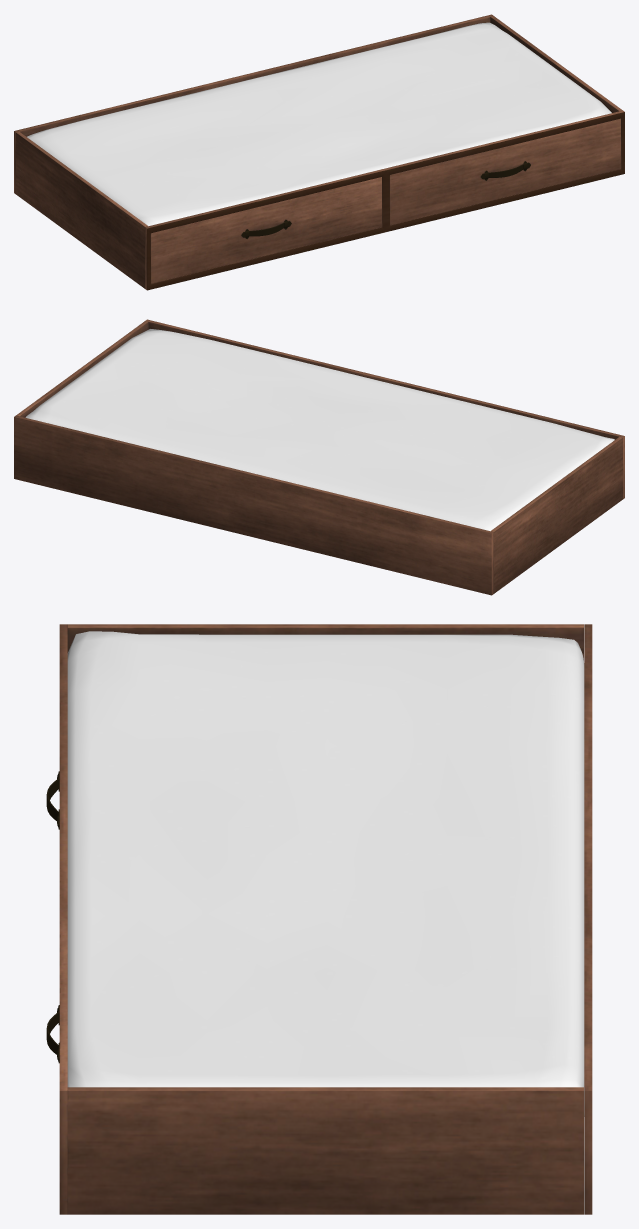
The picture shows the model from 3 angles, top to bottom: view 1: azimuth 30°, elevation 25°; view 2: azimuth 150°, elevation 25°; view 3: azimuth 270°, elevation 25°; orthographic projection. The views are drawn at different scales.
Visible parts, largest first — view 1: fabric, wood, metal; view 2: fabric, wood; view 3: fabric, wood.
Boxes of the visible parts, box(x1,y1,x2,y2) form: fabric: box(27, 22, 611, 226); wood: box(14, 14, 624, 290); metal: box(241, 161, 530, 238); fabric: box(25, 329, 614, 531); wood: box(14, 319, 624, 595); fabric: box(67, 631, 584, 1116); wood: box(59, 624, 592, 1214).
Bounding box in the file's own units: 1.93 × 0.24 × 0.955.
3 materials, 3 textured.
